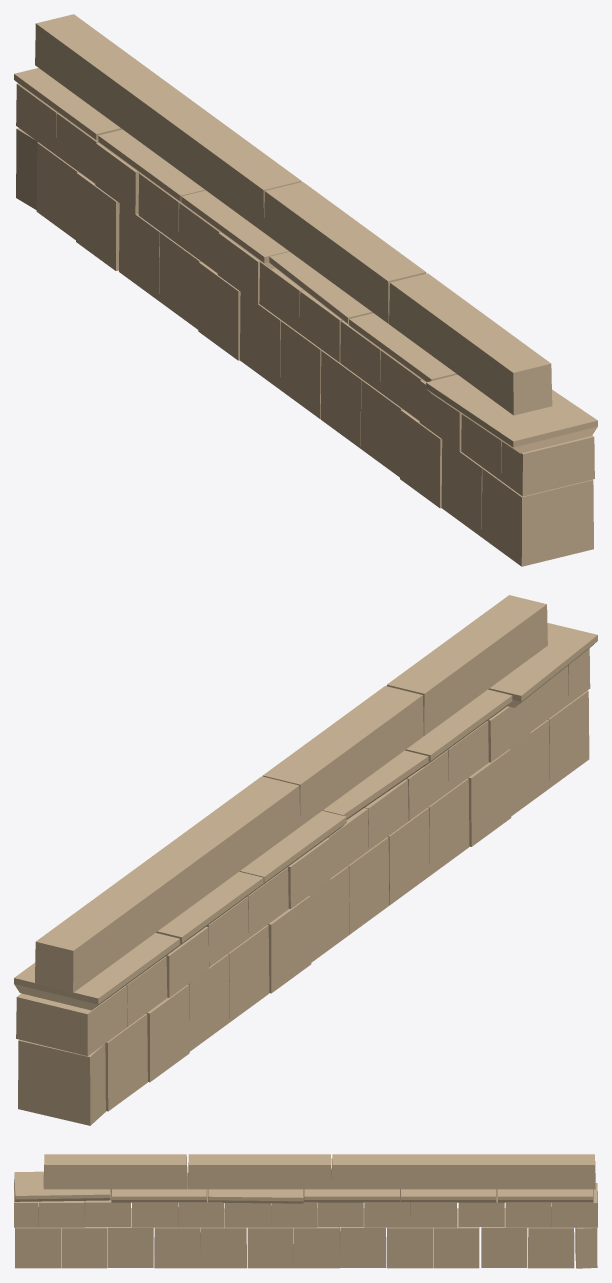
File: egypt_wallright.fbx
3 renders of one model, top to bottom at view 1: azimuth 30°, elevation 25°; view 2: azimuth 150°, elevation 25°; view 3: azimuth 270°, elevation 25°, orthographic. The views are drawn at different scales.
Visible parts, largest first — view 1: wallright; view 2: wallright; view 3: wallright.
Part boxes in pixels (<box>): wallright: <box>14,14,597,566</box>; wallright: <box>14,595,597,1125</box>; wallright: <box>14,1154,597,1268</box>.
Size of the model in its own units: 2.38 by 4.02 by 21.58.
